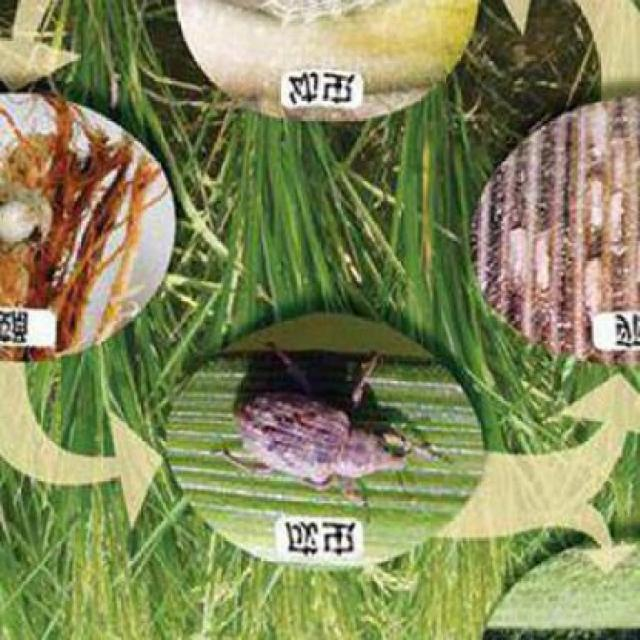rice-bug: (229, 357, 406, 505)
